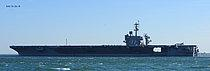MIL_Ship: (10, 20, 200, 57)
